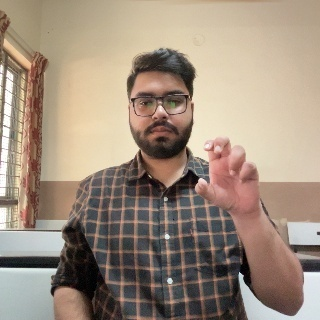Face: (129, 60, 196, 157)
No: (197, 135, 271, 239)
